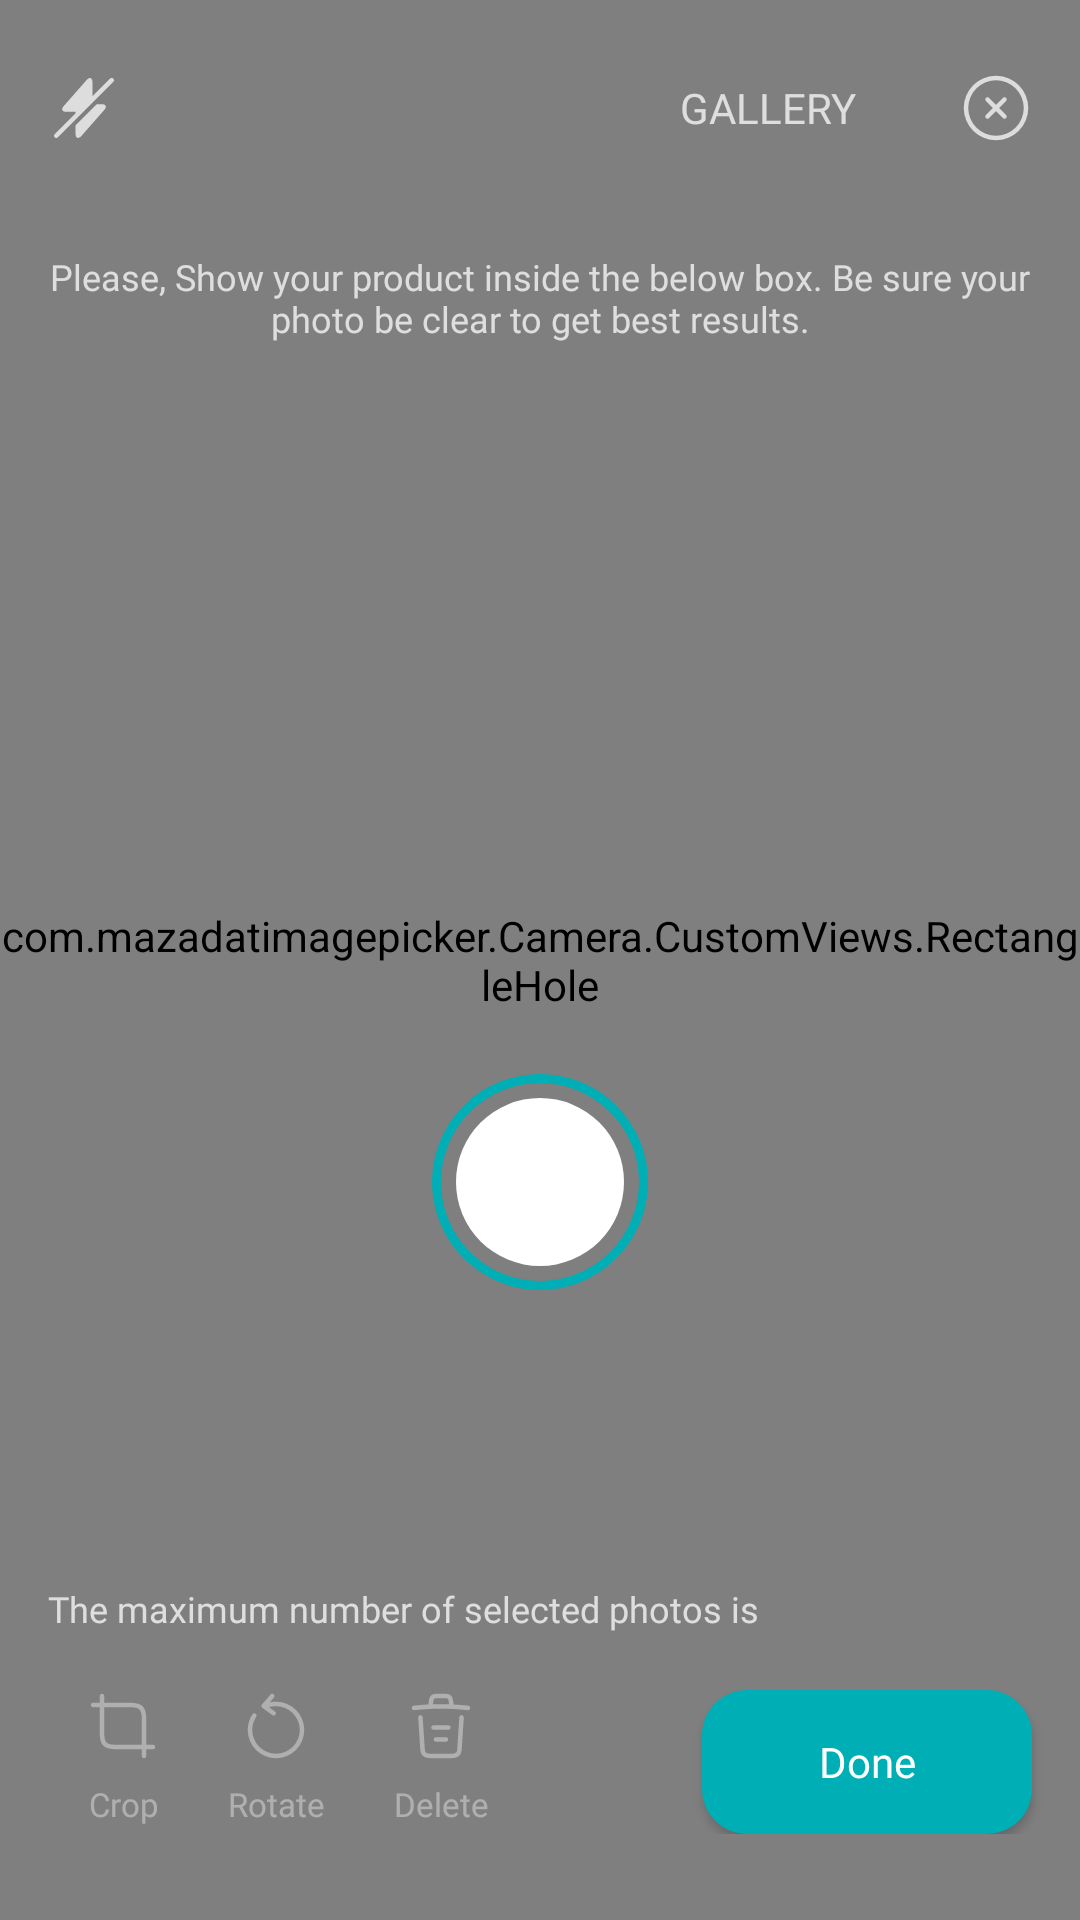

Named icons in this screenshot (1080px×1920px) and their bounding boxes, (left=x1, top=y1, right=x2, bottom=y2):
capture: (left=432, top=1074, right=648, bottom=1290)
close: (left=964, top=76, right=1028, bottom=140)
flash off: (left=54, top=78, right=114, bottom=138)
